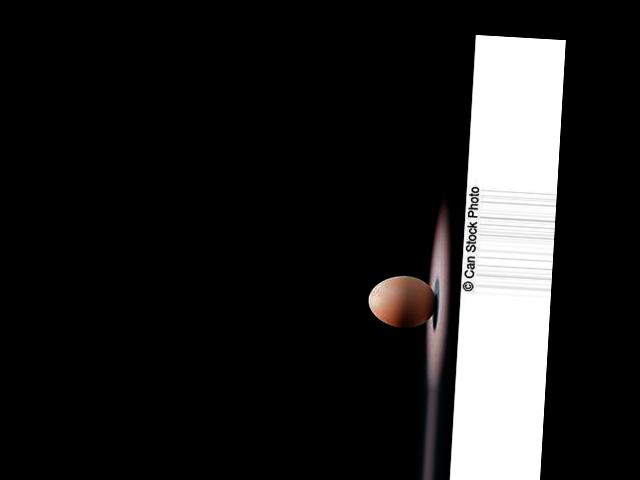egg: (367, 273, 437, 330)
